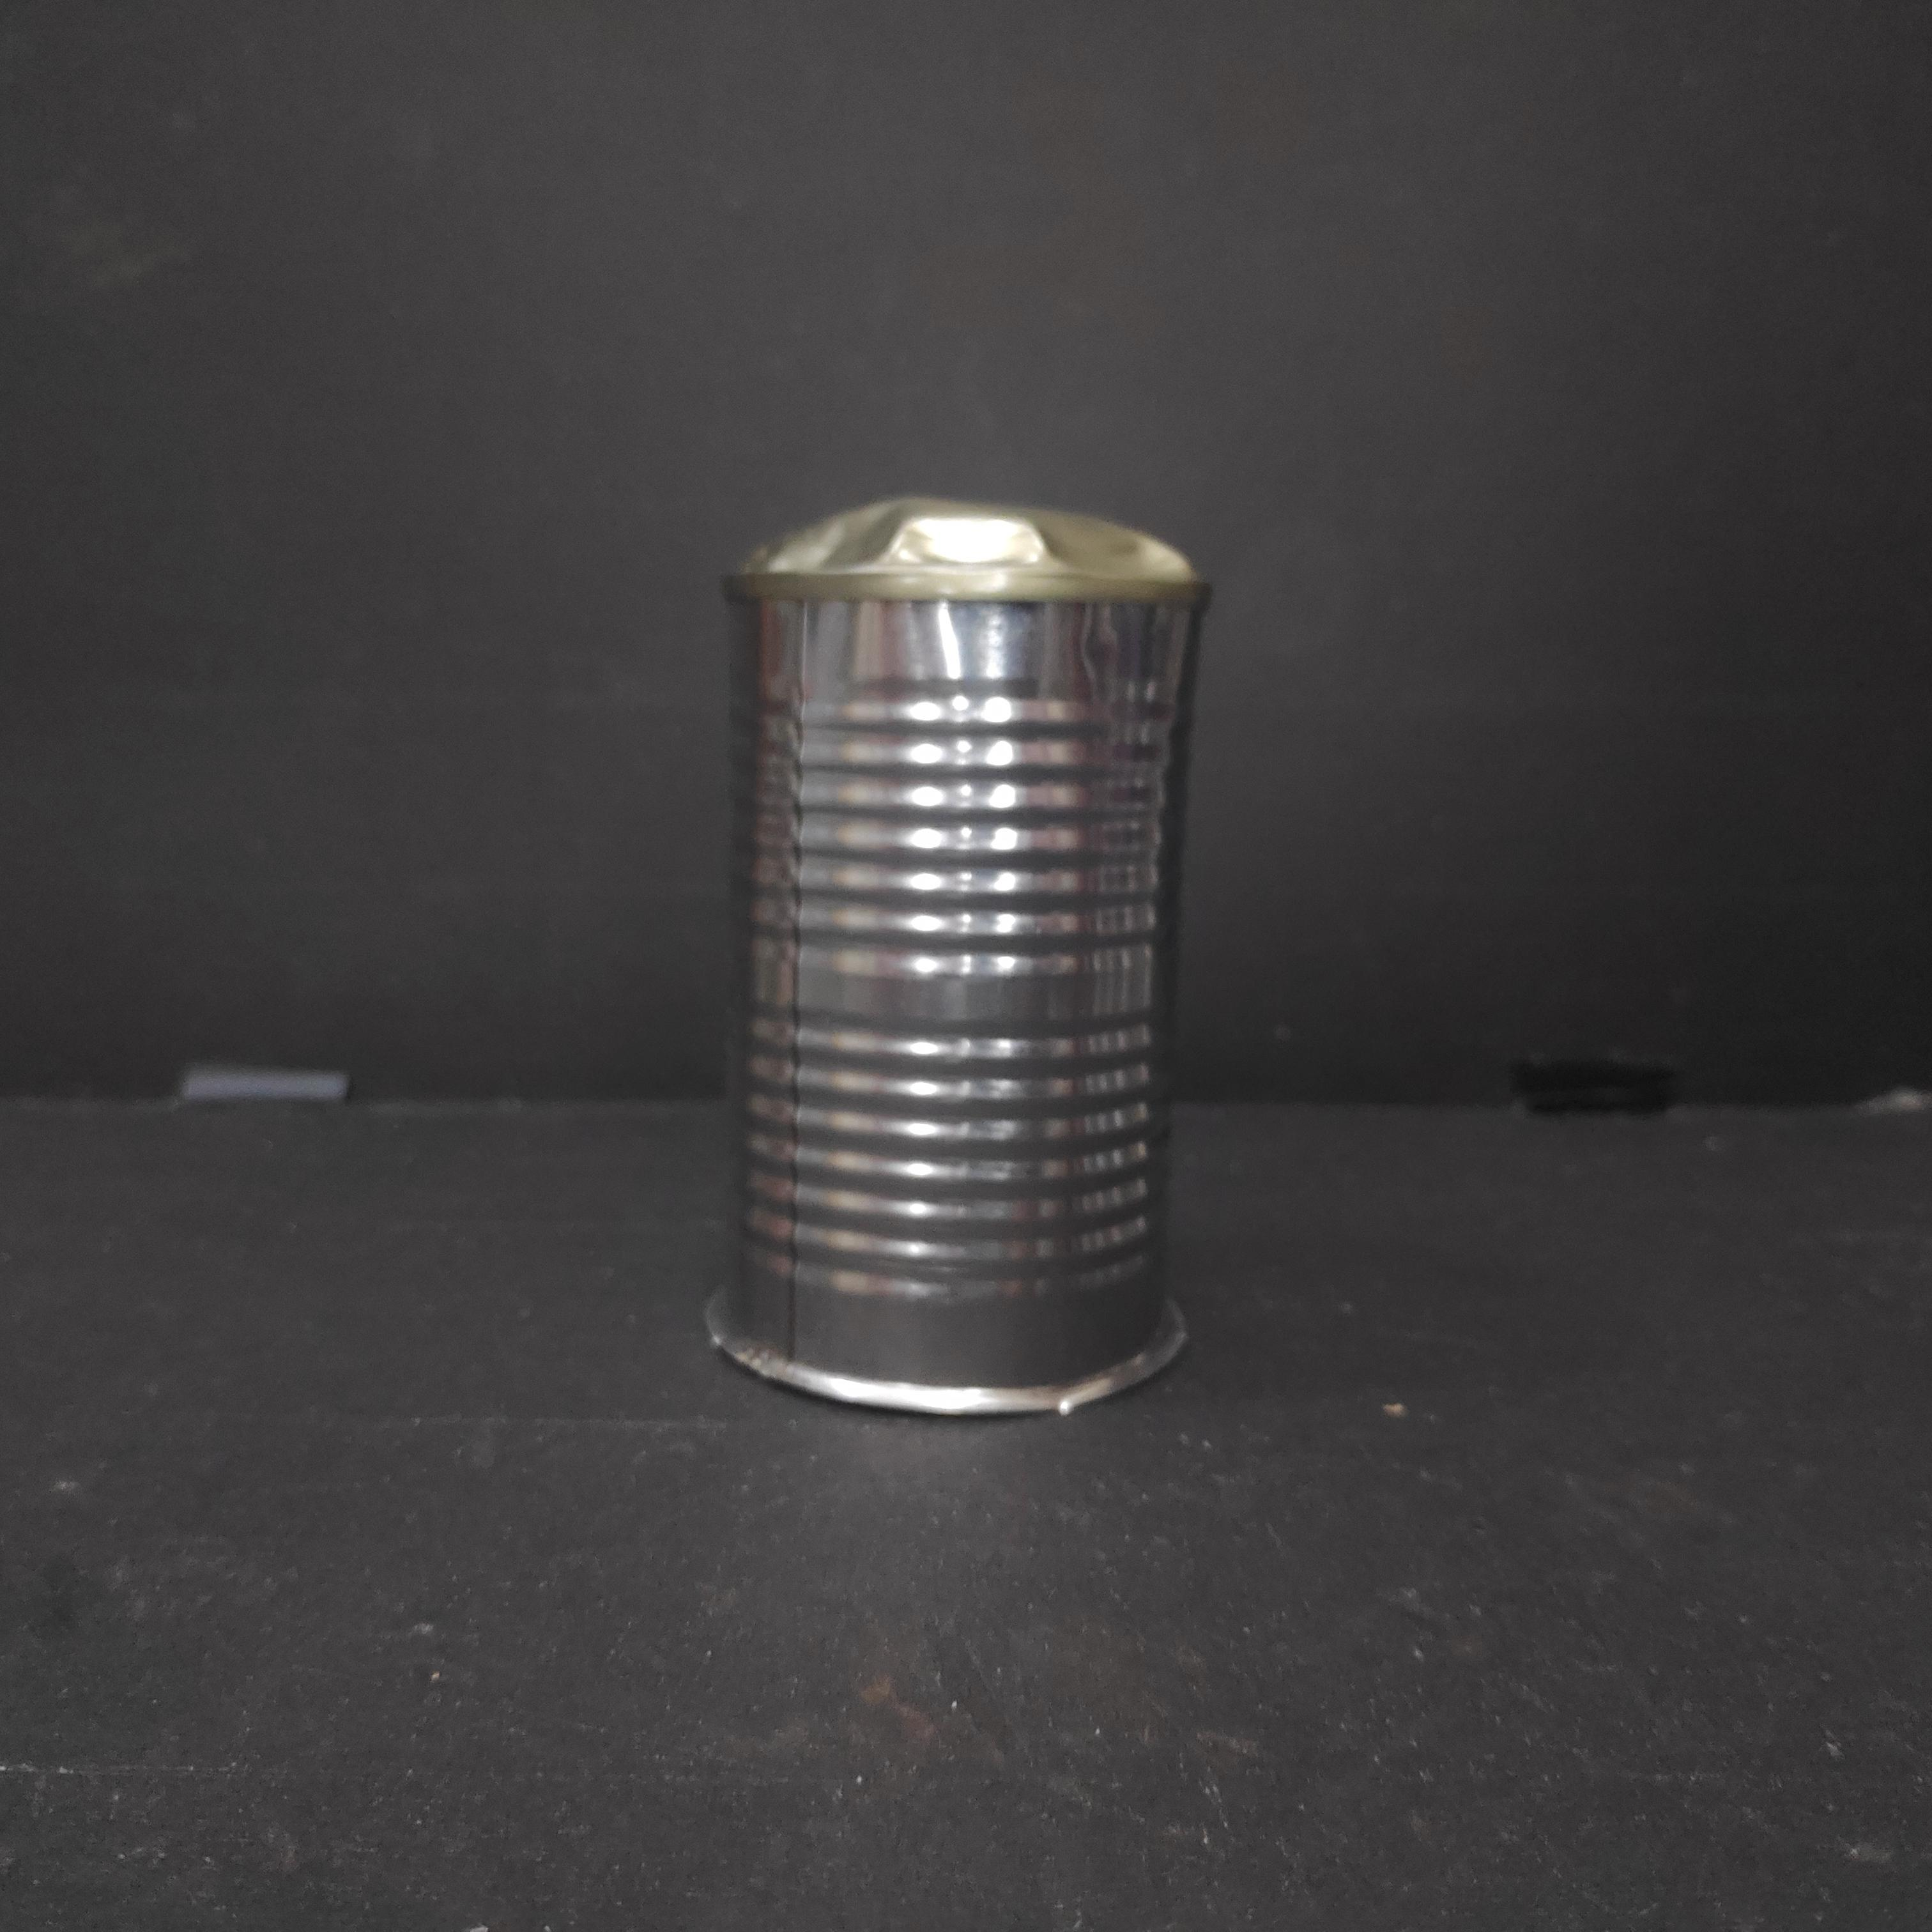Critical Defect: (714, 486, 1209, 1423)
